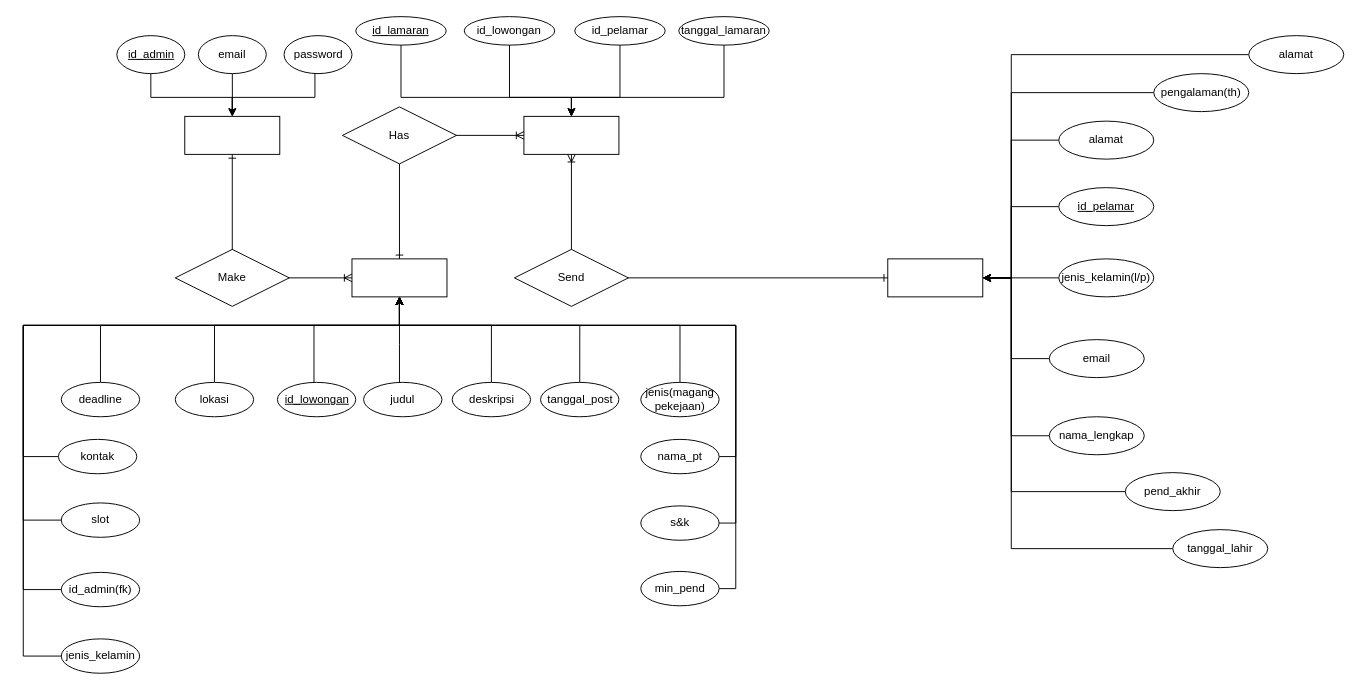
Image size: 1360x691. Some labels were removed from this diagram. Here are the shapes that lost their labels. From the top down, the centre of each, then its label:
the point at 232,134: Admin
the point at 571,134: Lamaran
the point at 399,277: Lowongan
the point at 935,277: Pelamar
